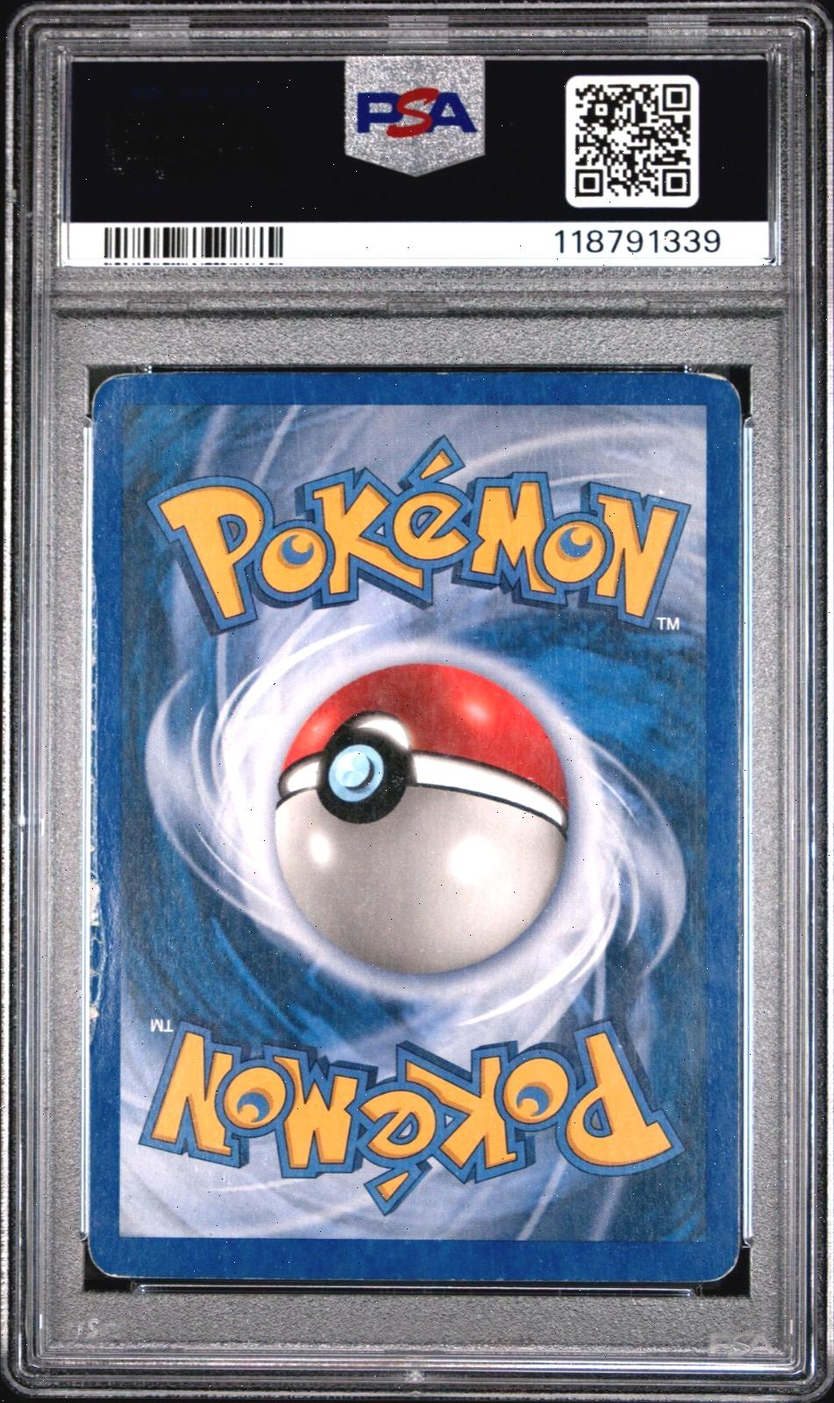card-2UtV: (87, 372, 742, 1283)
